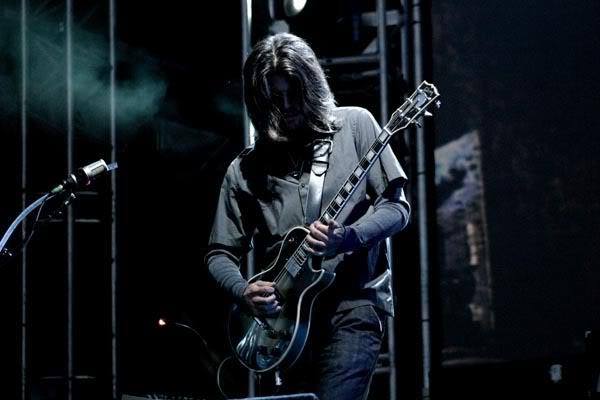acousticguitar: (229, 85, 443, 374)
